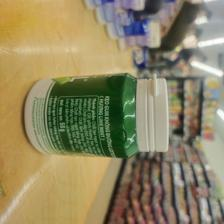Xylitol_green: (22, 70, 169, 159)
